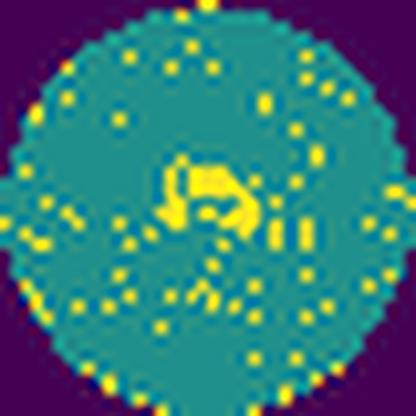Center: (152, 151, 265, 247)
